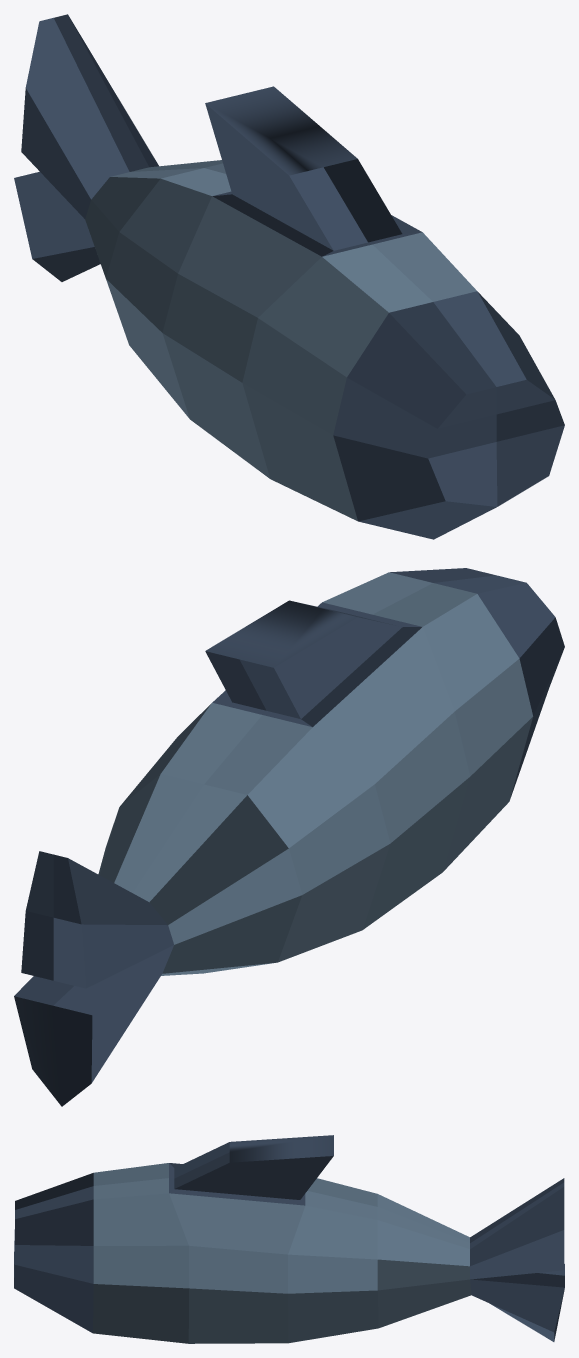
The model's file is fish.fbx.
The picture shows the model from 3 angles, top to bottom: view 1: azimuth 30°, elevation 25°; view 2: azimuth 150°, elevation 25°; view 3: azimuth 270°, elevation 25°; orthographic projection. The views are drawn at different scales.
Visible parts, largest first — view 1: fish; view 2: fish; view 3: fish.
Part boxes in pixels (bbox=[...]): fish: bbox=[14, 14, 564, 539]; fish: bbox=[14, 568, 564, 1106]; fish: bbox=[14, 1135, 564, 1343].
Bounding box in the file's own units: 62.35 × 83.29 × 210.
